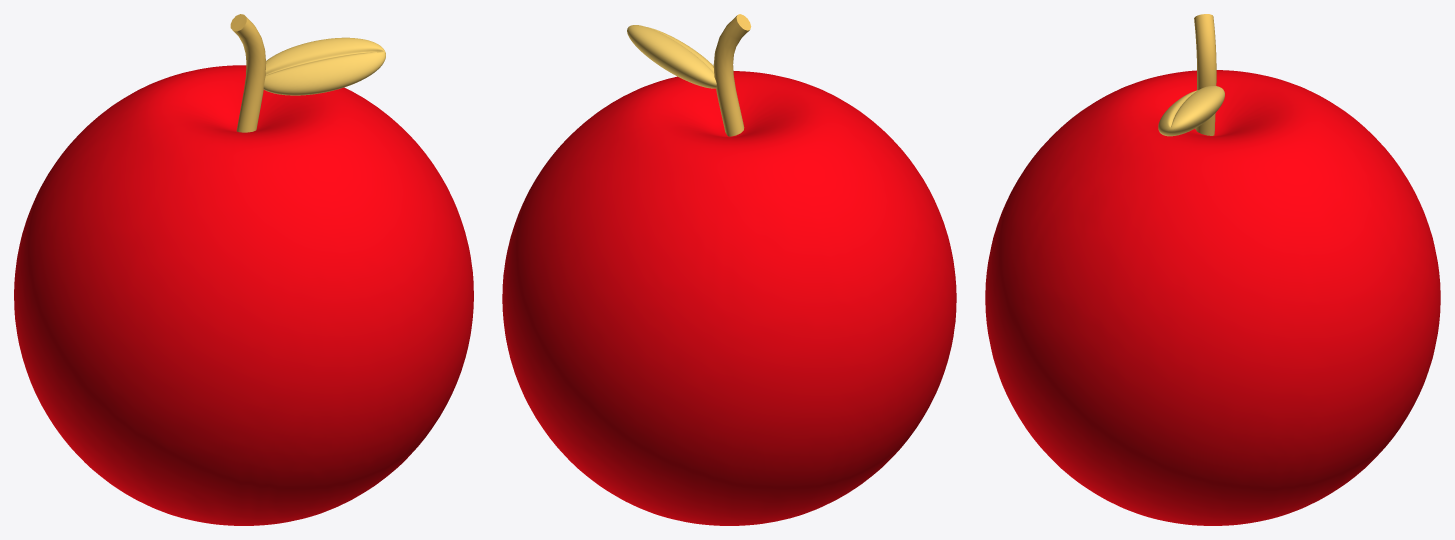
Rendered from ModelApple_pink.glb.
3 renders of one model, left to right at view 1: azimuth 30°, elevation 25°; view 2: azimuth 150°, elevation 25°; view 3: azimuth 270°, elevation 25°, orthographic.
Visible parts, largest first — view 1: Sphere.008, Sphere.009, BezierCurve.004; view 2: Sphere.008, Sphere.009, BezierCurve.004; view 3: Sphere.008, Sphere.009, BezierCurve.004.
Part boxes in pixels (box(x1,y1,x2,y2)): Sphere.008: box(14, 65, 473, 525); Sphere.009: box(263, 37, 385, 95); BezierCurve.004: box(230, 14, 266, 132); Sphere.008: box(502, 71, 956, 525); Sphere.009: box(627, 25, 716, 88); BezierCurve.004: box(713, 14, 751, 136); Sphere.008: box(985, 70, 1440, 525); Sphere.009: box(1158, 86, 1224, 136); BezierCurve.004: box(1194, 14, 1216, 135).
Size of the model in its own units: 0.2359 by 0.2687 by 0.2359.
